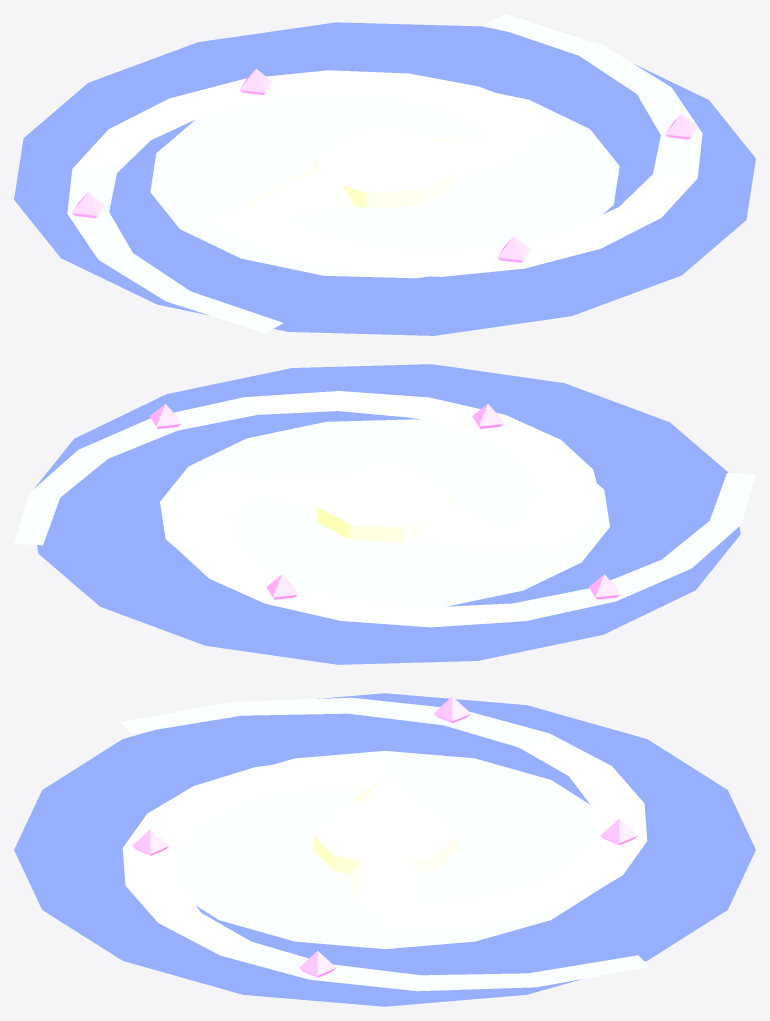
The model's file is barred_spiral.glb.
3 renders of one model, top to bottom at view 1: azimuth 30°, elevation 25°; view 2: azimuth 150°, elevation 25°; view 3: azimuth 270°, elevation 25°, orthographic. The views are drawn at different scales.
Parts seen in each view (by area): view 1: body; view 2: body; view 3: body.
Boxes of the visible parts, x1,y1,x2,y2 form: body: (14,14,755,335); body: (14,364,755,664); body: (14,693,755,1006).
Bounding box in the file's own units: 196 × 22 × 196.
